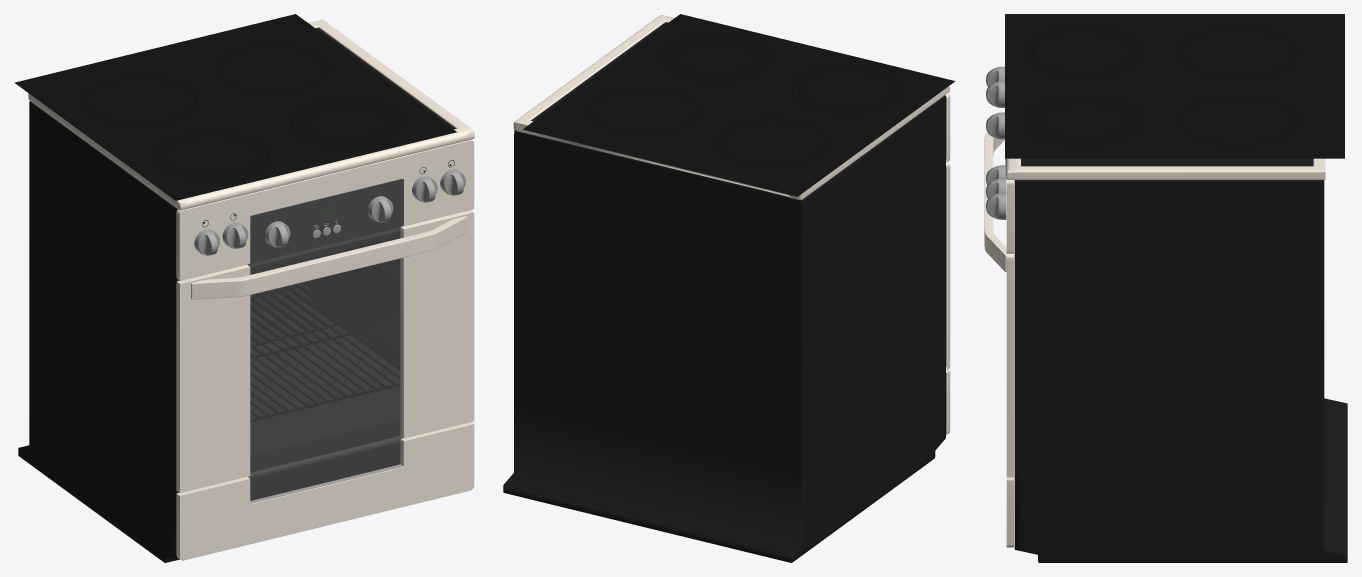
Rendered from Polantis-Oven_03.FBX.
3 renders of one model, left to right at view 1: azimuth 30°, elevation 25°; view 2: azimuth 150°, elevation 25°; view 3: azimuth 270°, elevation 25°, orthographic. The views are drawn at different scales.
Visible parts, largest first — view 1: cook_010_1; view 2: cook_010_1; view 3: cook_010_1.
Part boxes in pixels (<box>): cook_010_1: <box>14,14,474,562</box>; cook_010_1: <box>503,14,955,562</box>; cook_010_1: <box>984,14,1347,562</box>.
Bounding box in the file's own units: 79.56 × 79.23 × 95.01.
